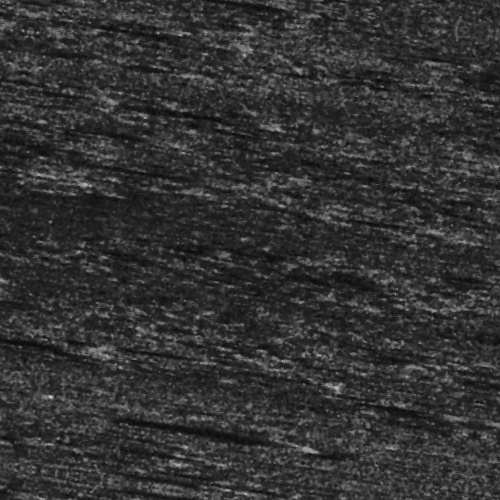object: (152, 45, 245, 52), (286, 429, 327, 440), (86, 369, 127, 378), (167, 183, 240, 188), (0, 200, 51, 207), (248, 3, 279, 6)
shadow: (99, 429, 306, 440), (0, 369, 106, 378), (95, 45, 198, 52), (101, 183, 203, 188), (127, 3, 263, 6), (121, 121, 252, 124)
